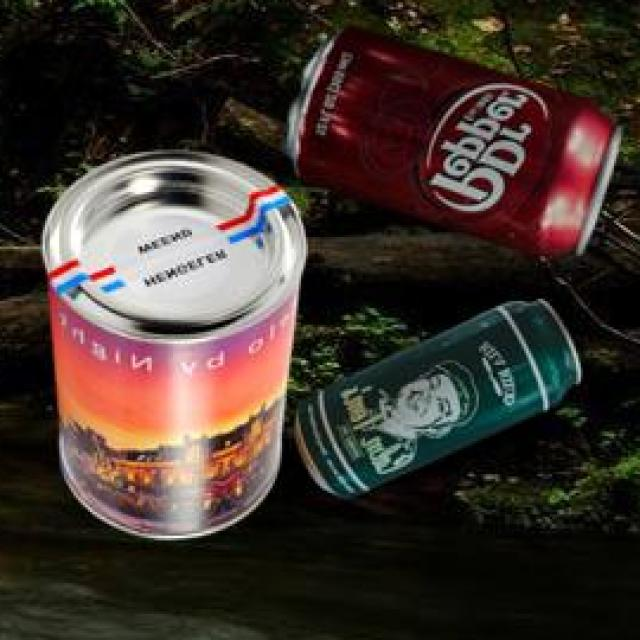logam: (46, 148, 309, 535), (288, 23, 625, 252), (297, 297, 584, 494)
